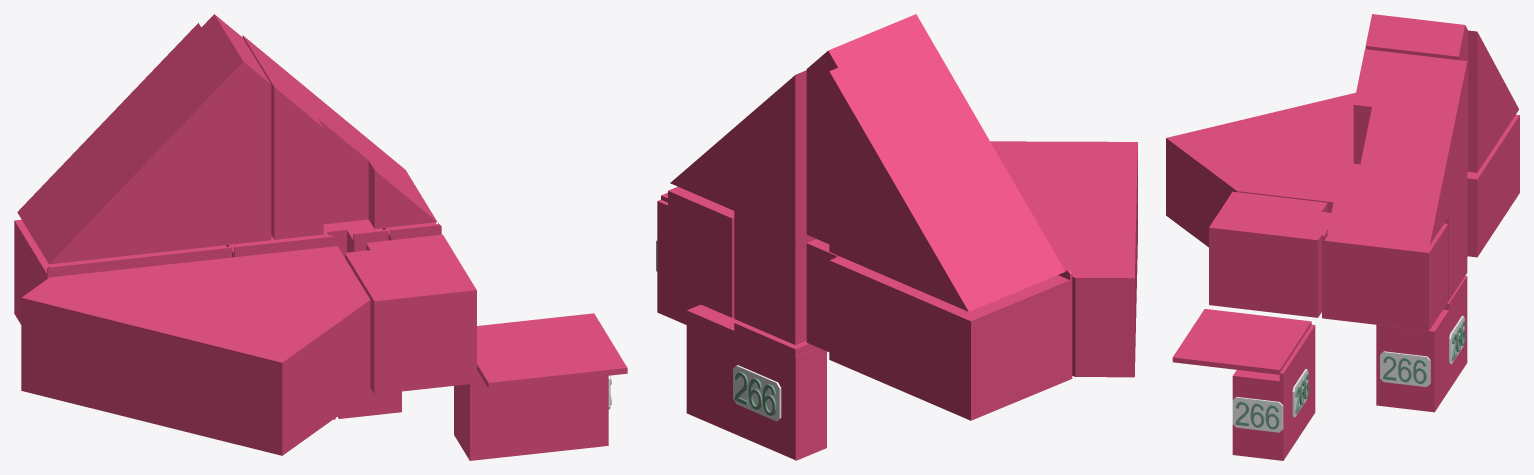
3 renders of one model, left to right at view 1: azimuth 30°, elevation 25°; view 2: azimuth 150°, elevation 25°; view 3: azimuth 270°, elevation 25°, orthographic. The views are drawn at different scales.
Visible parts, largest first — view 1: g_5, g_2, g_3, g_10, g_1, g_13, g_6, g_7, g_0, g_4, g_9; view 2: g_2, g_6, g_5, g_12, g_4, g_11, g_9, g_0, g_3, g_8, g_1, g_29; view 3: g_5, g_3, g_10, g_9, g_2, g_13, g_1, g_4, g_6, g_0, g_12, g_11 (+2 smaller).
Part boxes in pixels (box(x1,y1,x2,y2)): g_5: box(21, 246, 370, 455); g_2: box(17, 14, 271, 264); g_3: box(254, 54, 439, 239); g_10: box(345, 234, 476, 394); g_1: box(454, 370, 608, 460); g_13: box(477, 313, 627, 388); g_6: box(14, 219, 231, 324); g_7: box(226, 219, 388, 257); g_0: box(337, 388, 401, 418); g_4: box(242, 35, 332, 118); g_9: box(382, 222, 441, 240); g_2: box(806, 14, 1065, 311); g_6: box(829, 256, 1072, 420); g_5: box(990, 141, 1137, 377); g_12: box(720, 319, 826, 460); g_4: box(734, 70, 806, 237); g_11: box(734, 211, 815, 344); g_9: box(668, 186, 734, 317); g_0: box(686, 304, 734, 427); g_3: box(670, 128, 734, 210); g_8: box(806, 239, 838, 351); g_1: box(657, 199, 700, 324); g_29: box(733, 365, 781, 421); g_5: box(1166, 92, 1355, 247); g_3: box(1322, 49, 1448, 245); g_10: box(1209, 191, 1331, 317); g_9: box(1322, 223, 1448, 330); g_2: box(1365, 14, 1518, 172); g_13: box(1172, 309, 1311, 374); g_1: box(1232, 324, 1315, 460); g_4: box(1414, 57, 1467, 215); g_6: box(1467, 114, 1519, 257); g_0: box(1376, 316, 1444, 412); g_12: box(1439, 276, 1467, 396); g_11: box(1444, 189, 1467, 300).
Size of the model in its own units: 13.83 by 10.1 by 9.92.
